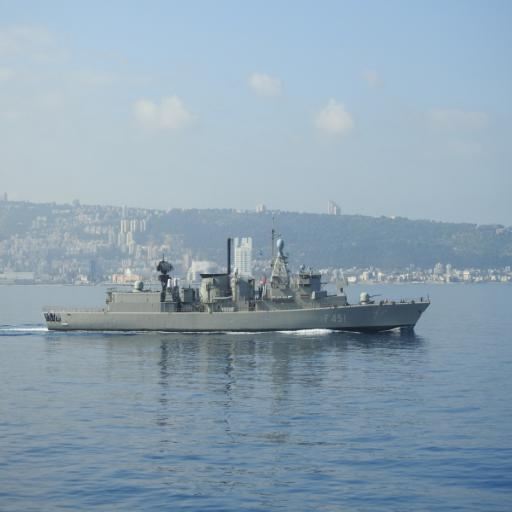Fragata: (38, 213, 434, 339)
